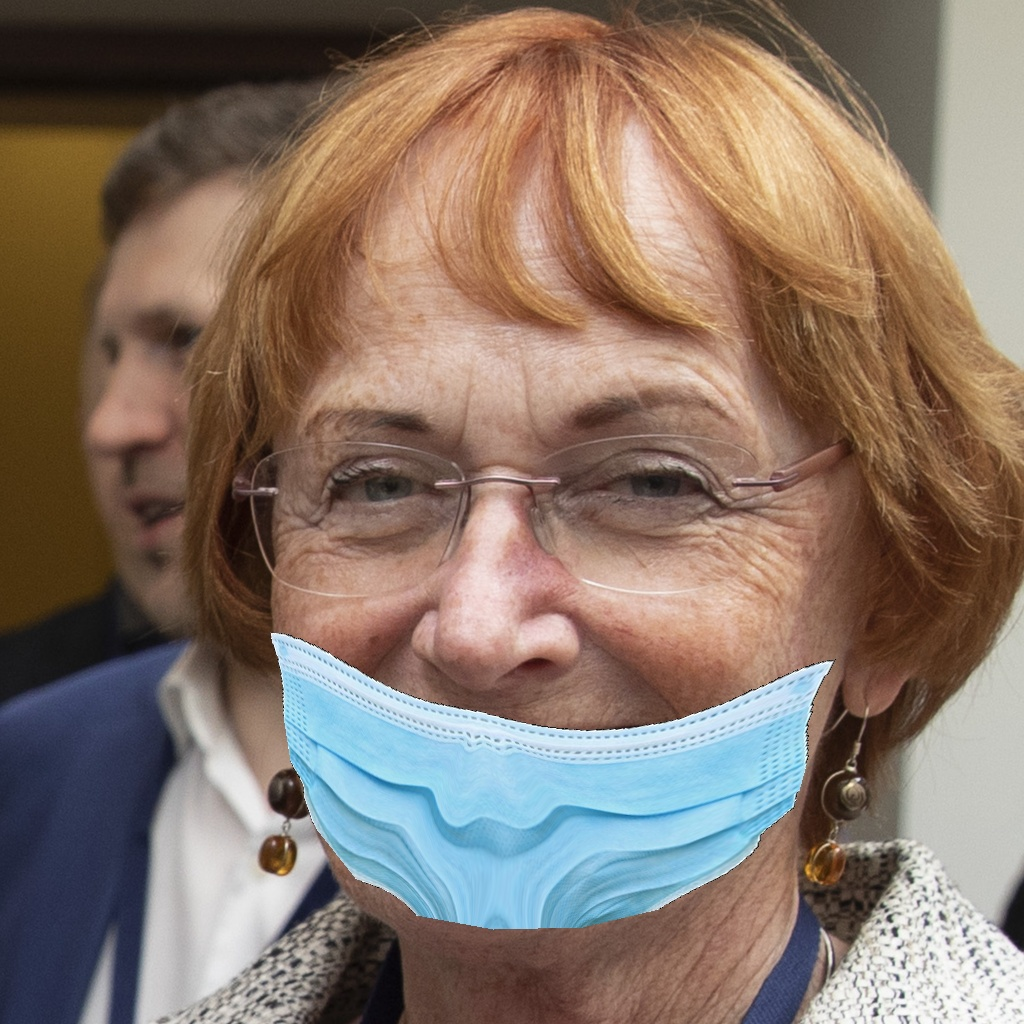mascarilla_mal_puesta: (259, 363, 867, 935)
